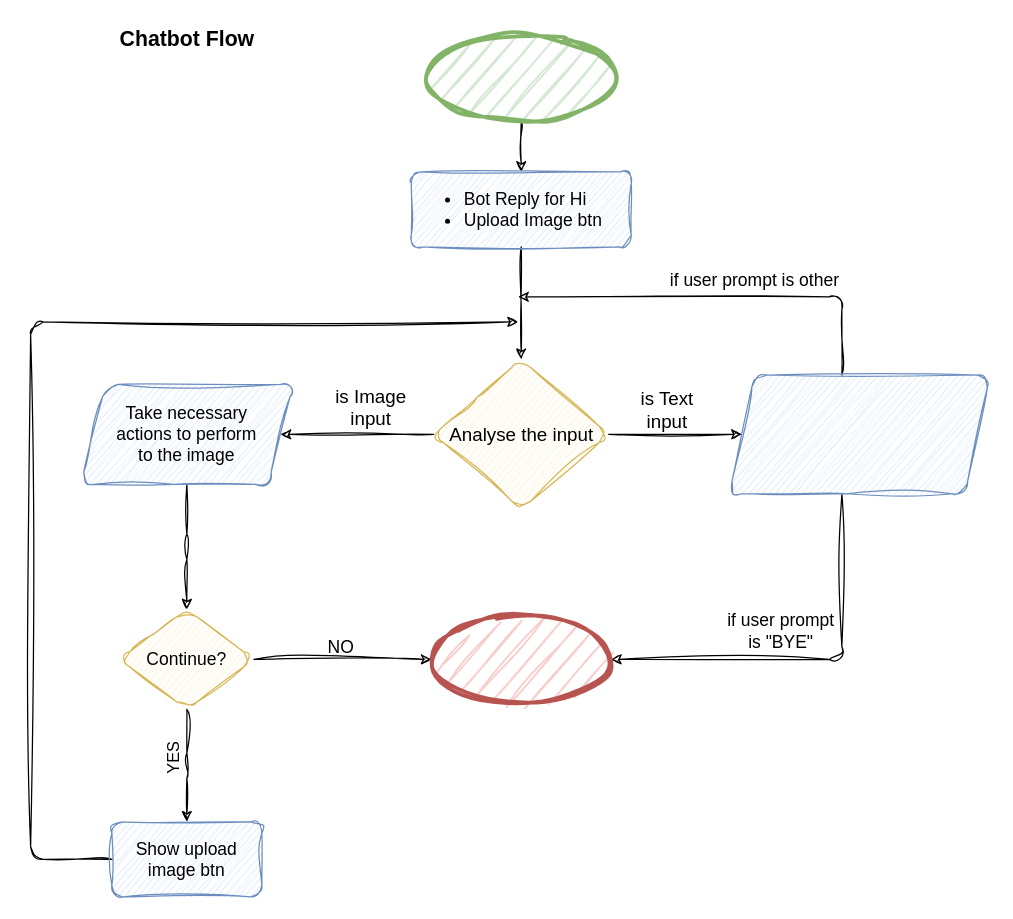
This 1013x919 diagram has some shape labels left out. The centre of each missing label's shape, as x and y in pixels:
"Analyze the text input and show appropriate response from the API" belongs at [859,434].
"Close the messaging area" belongs at [520,658].
"Say Hi (Bot Initiation)" belongs at [520,77].
